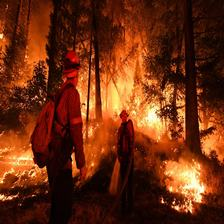fire: (85, 51, 170, 141), (159, 139, 214, 217), (2, 142, 47, 206)
